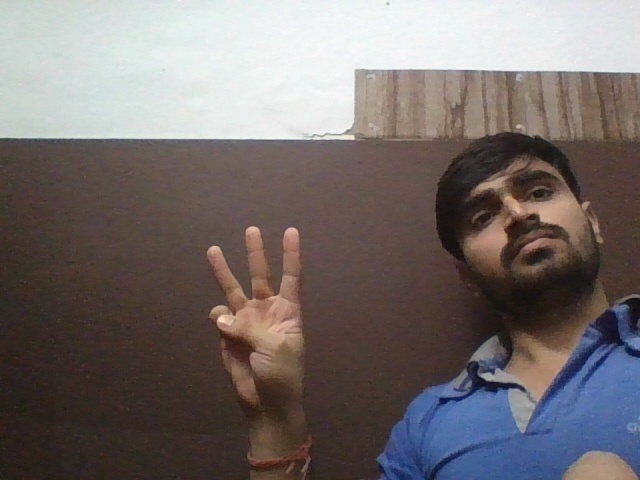W: (192, 219, 329, 424)
